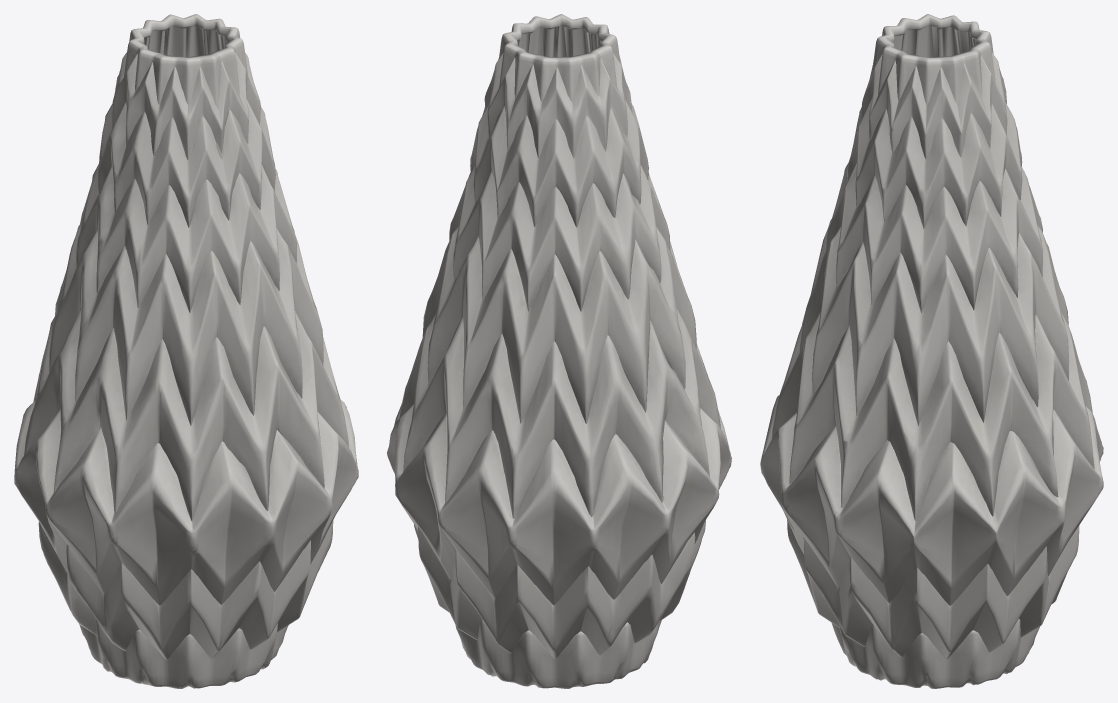
The model's file is B075HWDT2Z.glb.
3 renders of one model, left to right at view 1: azimuth 30°, elevation 25°; view 2: azimuth 150°, elevation 25°; view 3: azimuth 270°, elevation 25°, orthographic.
Visible parts, largest first — view 1: RootNode; view 2: RootNode; view 3: RootNode.
Boxes of the visible parts, <box> form: RootNode: <box>14,14,358,688</box>; RootNode: <box>387,14,731,688</box>; RootNode: <box>760,14,1103,688</box>.
Bounding box in the file's own units: 0.1674 × 0.3282 × 0.166.
Materials: 1 (1 with a texture image).
